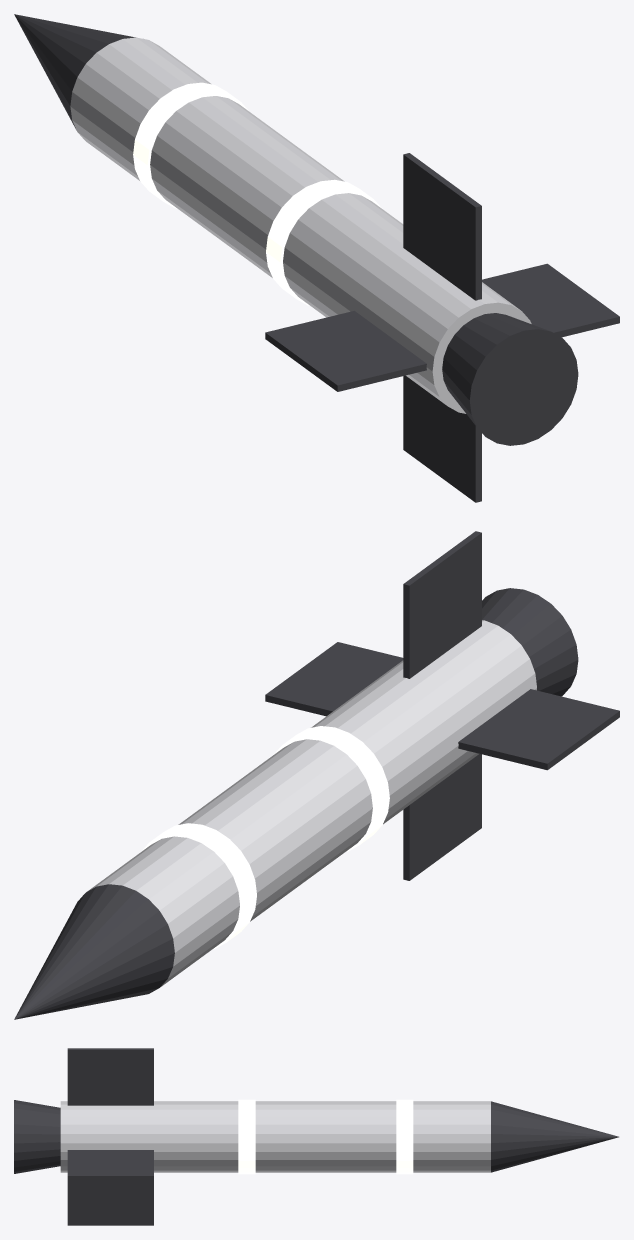
The model's file is OS_Missile.fbx.
The picture shows the model from 3 angles, top to bottom: view 1: azimuth 30°, elevation 25°; view 2: azimuth 150°, elevation 25°; view 3: azimuth 270°, elevation 25°; orthographic projection. The views are drawn at different scales.
Parts seen in each view (by area): view 1: OS_Missile; view 2: OS_Missile; view 3: OS_Missile.
Boxes of the visible parts, box(x1,y1,x2,y2) form: OS_Missile: box(14, 14, 619, 502); OS_Missile: box(14, 531, 619, 1019); OS_Missile: box(14, 1048, 618, 1225).
Size of the model in its own units: 1.35 by 4.23 by 1.35.
